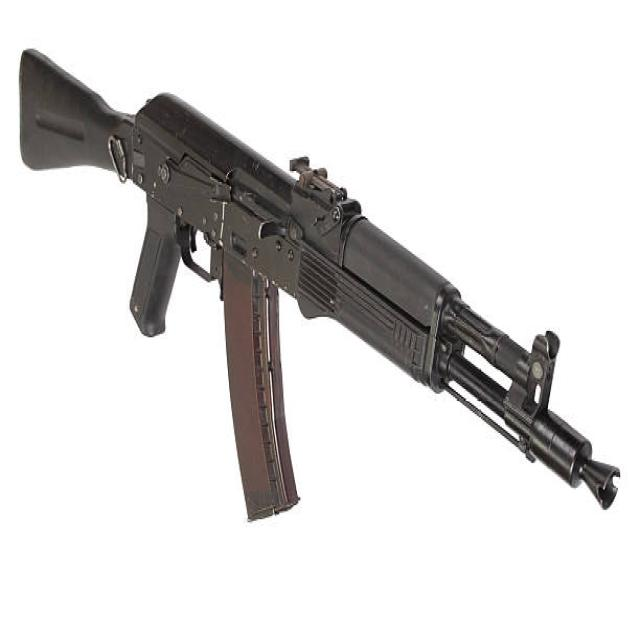rifle: (14, 36, 630, 526)
